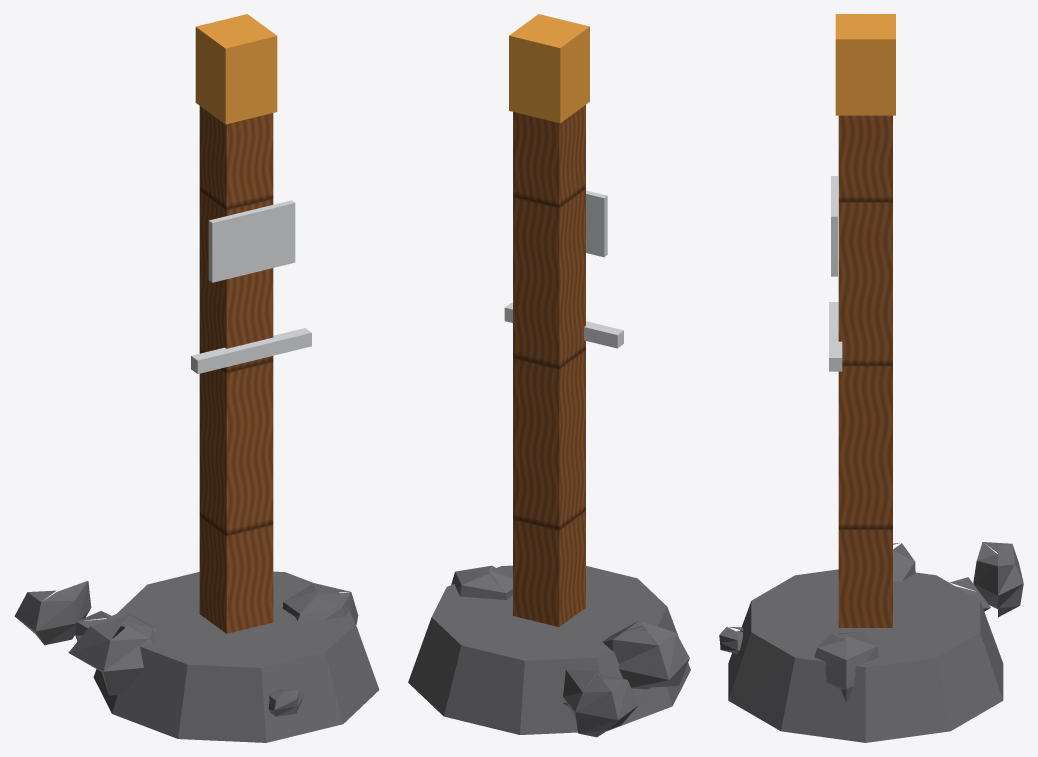
Rendered from volcano-and-lava-fields-volcano-and-lava-fields-survey-afadf347__37481.glb.
3 renders of one model, left to right at view 1: azimuth 30°, elevation 25°; view 2: azimuth 150°, elevation 25°; view 3: azimuth 270°, elevation 25°, orthographic.
Visible parts, largest first — view 1: volcano-and-lava-fields-survey-marker-post; view 2: volcano-and-lava-fields-survey-marker-post; view 3: volcano-and-lava-fields-survey-marker-post.
Part boxes in pixels (<box>): volcano-and-lava-fields-survey-marker-post: <box>14,14,379,742</box>; volcano-and-lava-fields-survey-marker-post: <box>408,14,690,737</box>; volcano-and-lava-fields-survey-marker-post: <box>719,14,1023,742</box>.
Bounding box in the file's own units: 0.5209 × 1.2 × 0.506.
4 materials, 2 textured.
